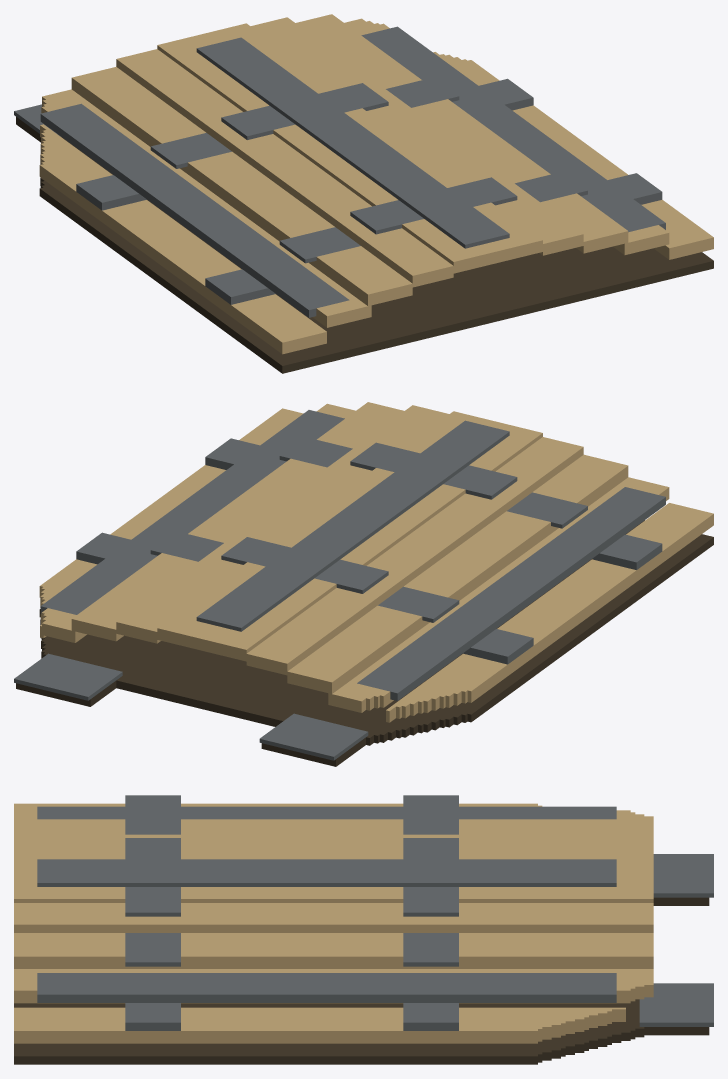
Rendered from armor_cardboard_cuirass.glb.
The picture shows the model from 3 angles, top to bottom: view 1: azimuth 30°, elevation 25°; view 2: azimuth 150°, elevation 25°; view 3: azimuth 270°, elevation 25°; orthographic projection. The views are drawn at different scales.
Visible parts, largest first — view 1: armor_cardboard_cuirass:compound; view 2: armor_cardboard_cuirass:compound; view 3: armor_cardboard_cuirass:compound.
Boxes of the visible parts, box(x1,y1,x2,y2) form: armor_cardboard_cuirass:compound: box(14, 14, 713, 373); armor_cardboard_cuirass:compound: box(14, 402, 713, 766); armor_cardboard_cuirass:compound: box(14, 795, 713, 1064).
Size of the model in its own units: 0.464 by 0.076 by 0.604.
